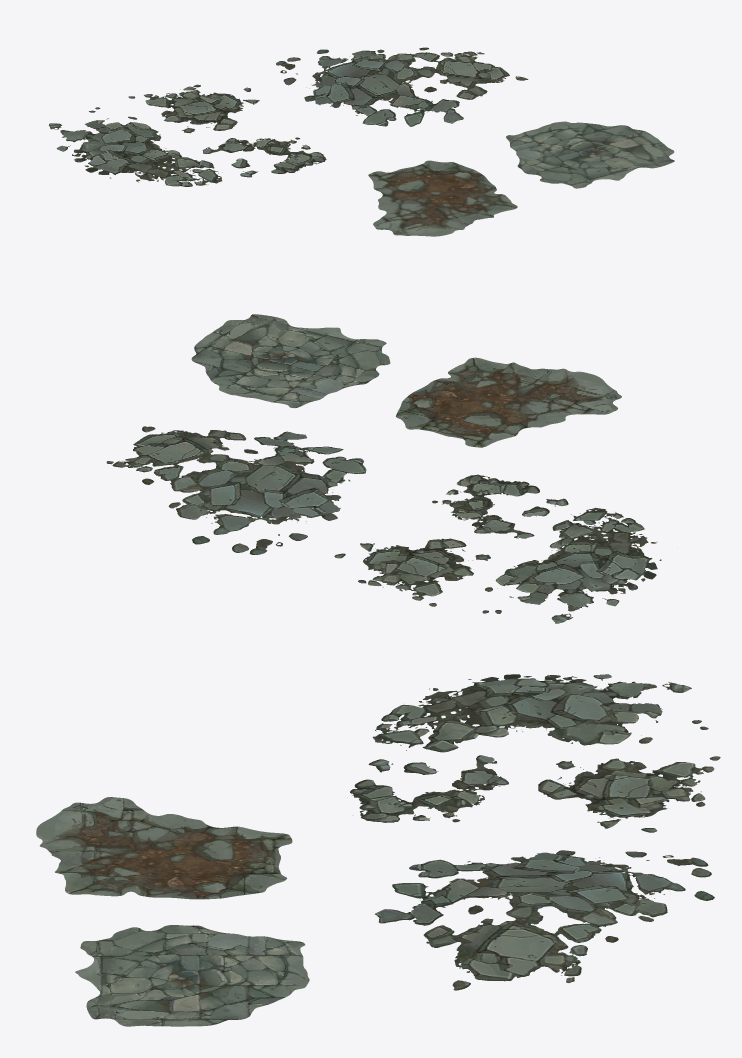
File: 2_WGJ_SuiZhuanPian_01.FBX
3 renders of one model, top to bottom at view 1: azimuth 30°, elevation 25°; view 2: azimuth 150°, elevation 25°; view 3: azimuth 270°, elevation 25°, orthographic. The views are drawn at different scales.
Parts seen in each view (by area): view 1: 2_WGJ_SuiZhuanPian_01_02, 2_WGJ_SuiZhuanPian_01_01, 2_WGJ_SuiZhuanPian_01_06, 2_WGJ_SuiZhuanPian_01_03, 2_WGJ_SuiZhuanPian_01_04, 2_WGJ_SuiZhuanPian_01_05; view 2: 2_WGJ_SuiZhuanPian_01_02, 2_WGJ_SuiZhuanPian_01_01, 2_WGJ_SuiZhuanPian_01_06, 2_WGJ_SuiZhuanPian_01_03, 2_WGJ_SuiZhuanPian_01_04, 2_WGJ_SuiZhuanPian_01_05; view 3: 2_WGJ_SuiZhuanPian_01_02, 2_WGJ_SuiZhuanPian_01_01, 2_WGJ_SuiZhuanPian_01_06, 2_WGJ_SuiZhuanPian_01_03, 2_WGJ_SuiZhuanPian_01_04, 2_WGJ_SuiZhuanPian_01_05.
Part boxes in pixels (x1,y1,x2,y2): 2_WGJ_SuiZhuanPian_01_02: (276,47,528,126); 2_WGJ_SuiZhuanPian_01_01: (368,160,517,236); 2_WGJ_SuiZhuanPian_01_06: (506,121,674,188); 2_WGJ_SuiZhuanPian_01_03: (49,107,222,186); 2_WGJ_SuiZhuanPian_01_04: (128,84,259,133); 2_WGJ_SuiZhuanPian_01_05: (202,137,326,177); 2_WGJ_SuiZhuanPian_01_02: (106,426,366,554); 2_WGJ_SuiZhuanPian_01_01: (396,357,621,447); 2_WGJ_SuiZhuanPian_01_06: (191,314,390,408); 2_WGJ_SuiZhuanPian_01_03: (482,507,661,623); 2_WGJ_SuiZhuanPian_01_04: (334,538,490,606); 2_WGJ_SuiZhuanPian_01_05: (432,474,568,538); 2_WGJ_SuiZhuanPian_01_02: (375,850,714,990); 2_WGJ_SuiZhuanPian_01_01: (36,797,292,899); 2_WGJ_SuiZhuanPian_01_06: (75,925,309,1026); 2_WGJ_SuiZhuanPian_01_03: (372,674,708,752); 2_WGJ_SuiZhuanPian_01_04: (538,756,720,832); 2_WGJ_SuiZhuanPian_01_05: (350,755,508,822).
Size of the model in its own units: 1750 by 54.86 by 1426.
Materials: 3 (3 with a texture image).
